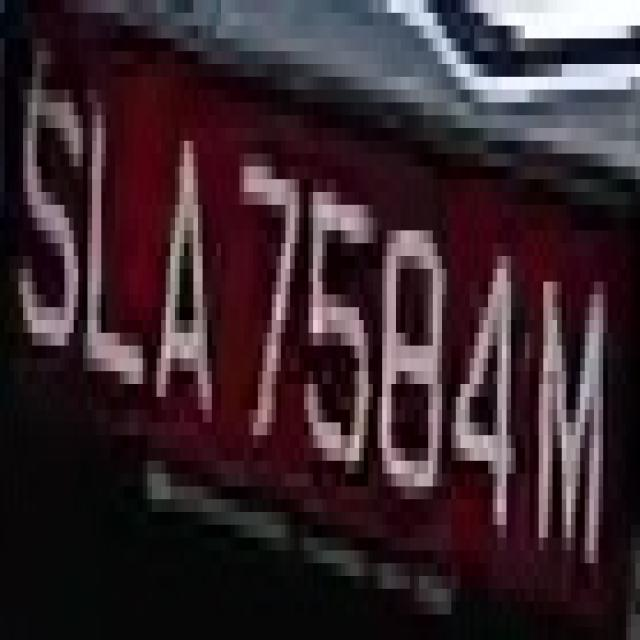4: (456, 218, 525, 550)
5: (299, 141, 382, 486)
7: (239, 90, 304, 487)
8: (373, 192, 451, 512)
A: (152, 90, 230, 448)
L: (83, 64, 152, 422)
M: (539, 218, 617, 602)
S: (14, 0, 83, 397)
